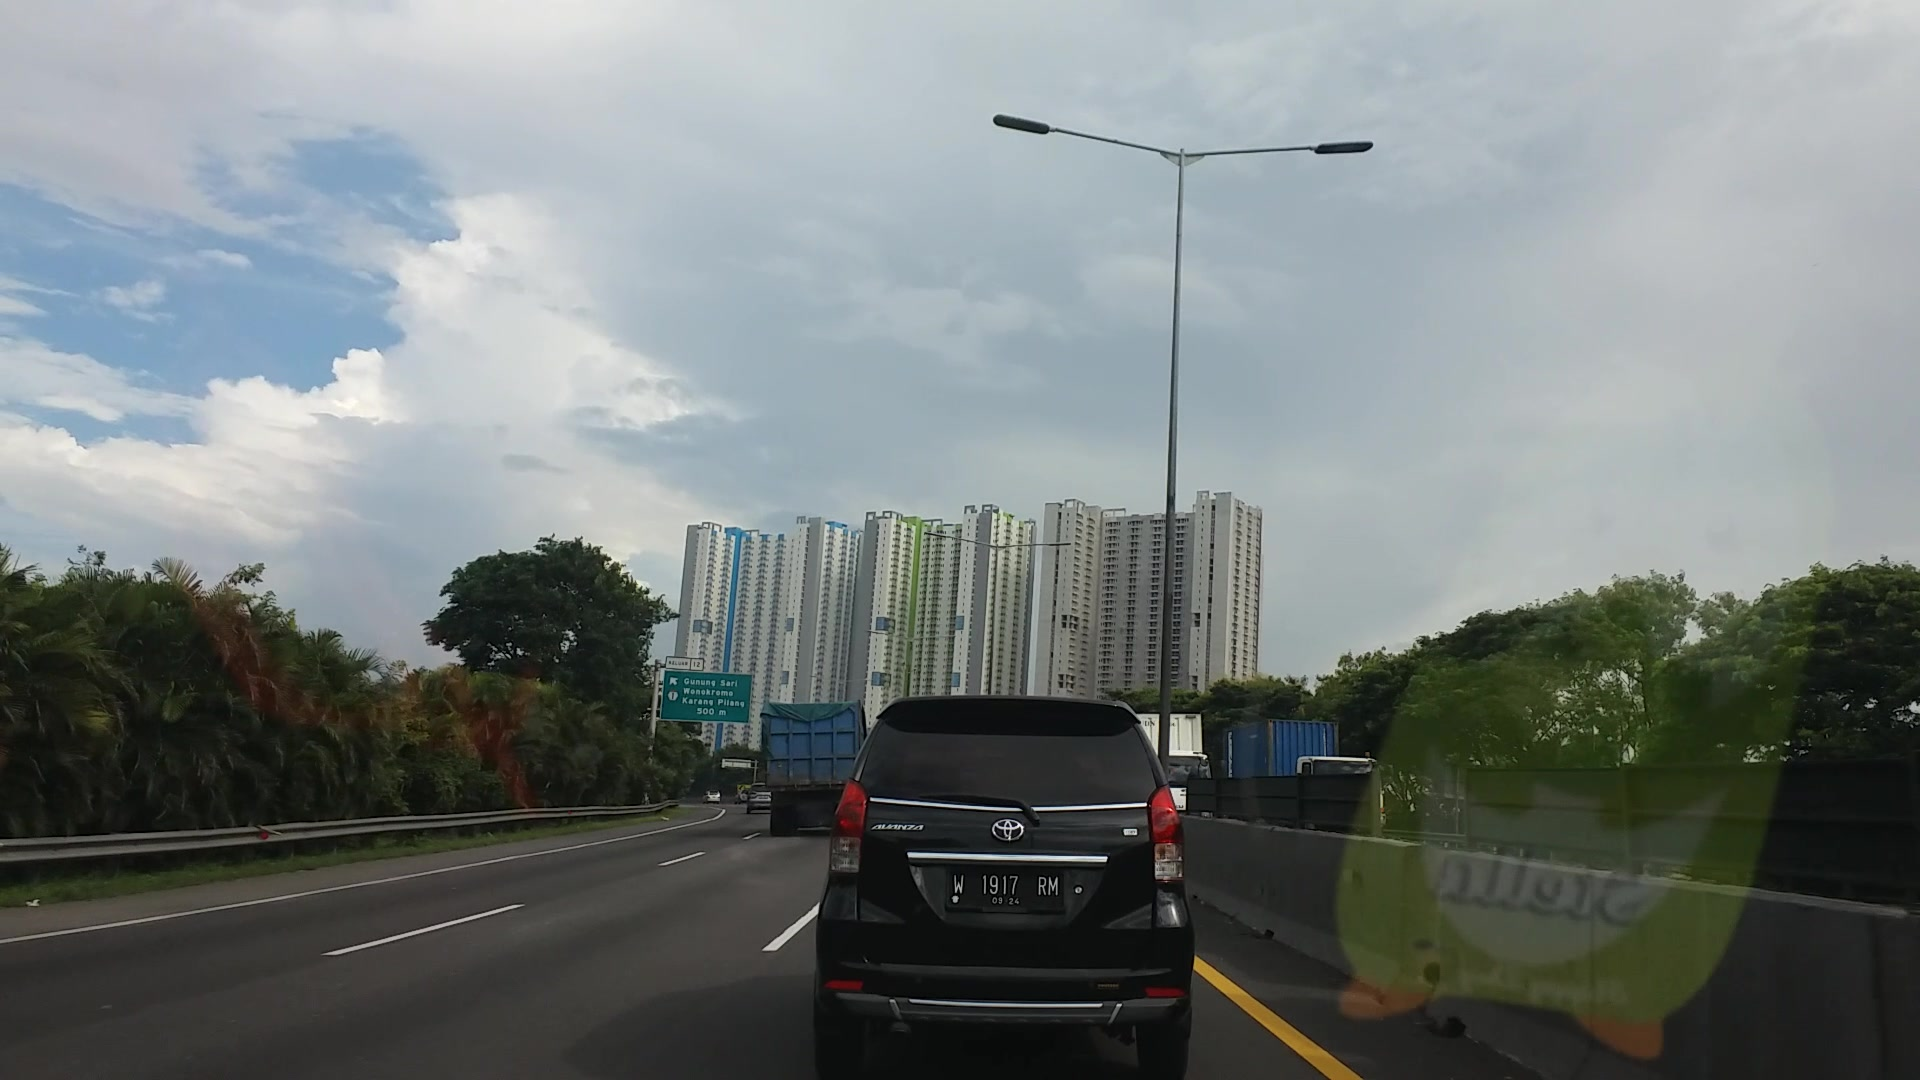plate_positive: (948, 866, 1062, 907)
